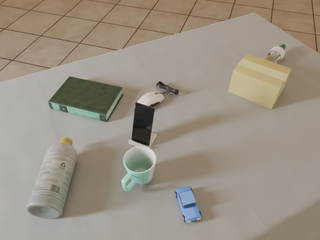book: (48, 76, 123, 122)
bottle: (26, 138, 77, 219), (263, 44, 286, 64)
box: (228, 54, 292, 109)
cup: (122, 146, 156, 191)
mouse: (138, 91, 164, 107)
phone: (132, 102, 155, 146)
toy_car: (175, 186, 201, 223)
